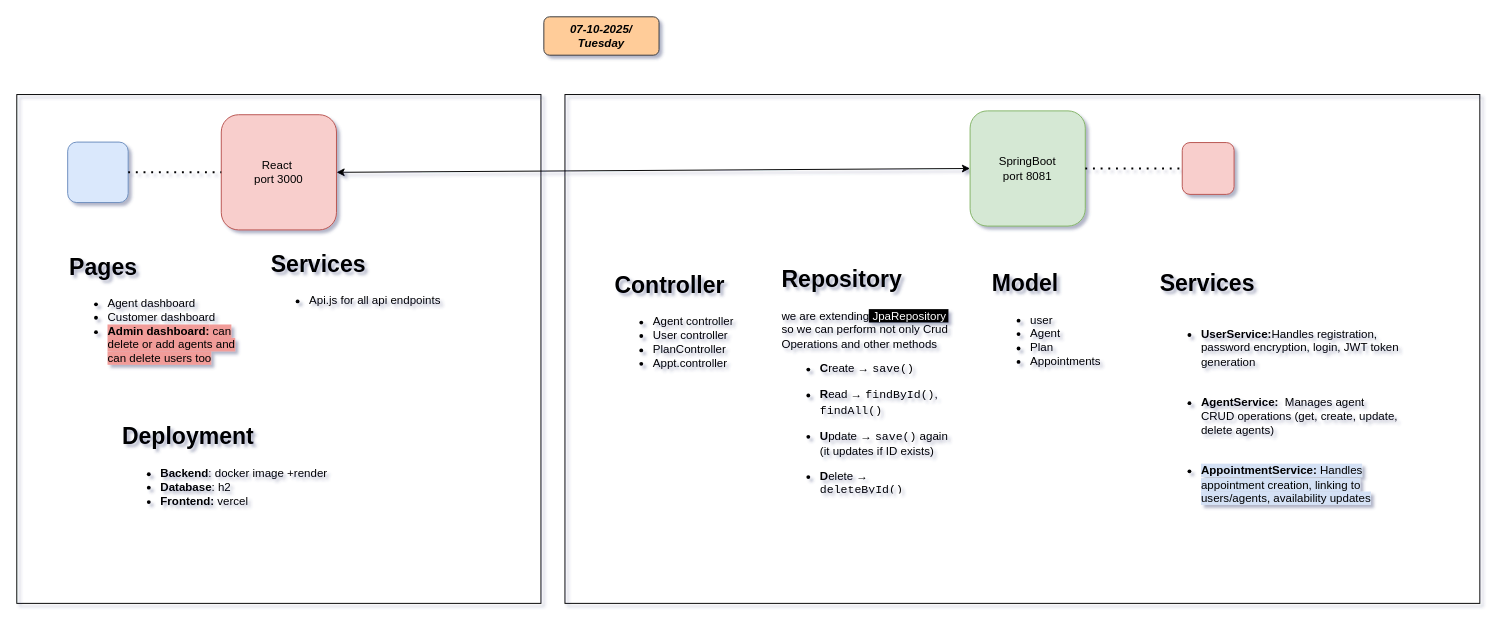
Some shapes in this 1502 by 626 pixel diagram are drawn without their labels. The shapes that lost their labels are listed below. From the top down, each one's box as (x1, y1, x2, y2) in pixels, then its label:
(67, 141, 128, 203): axois for HTTP requests
(1181, 142, 1234, 194): mysql
